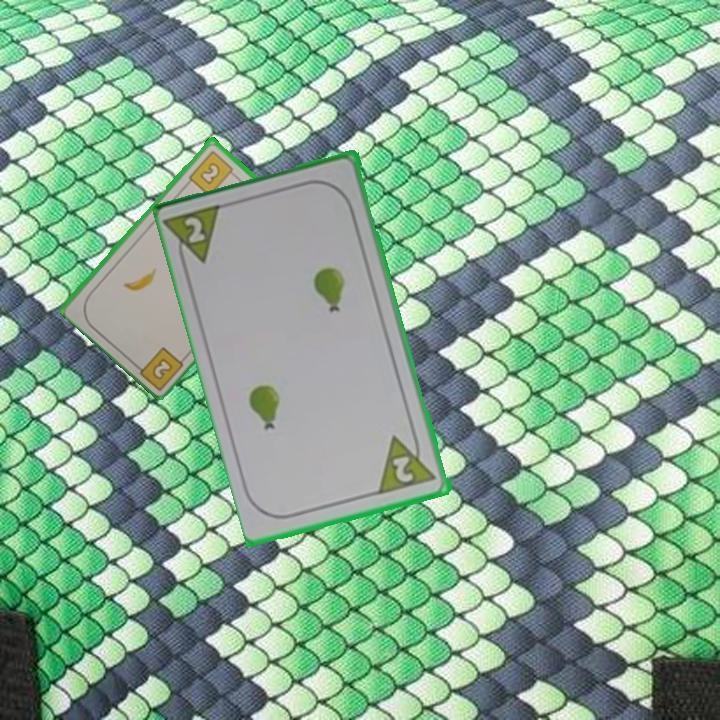2b: (185, 147, 240, 198), (129, 343, 186, 391)
2p: (164, 200, 228, 273), (376, 427, 440, 498)
